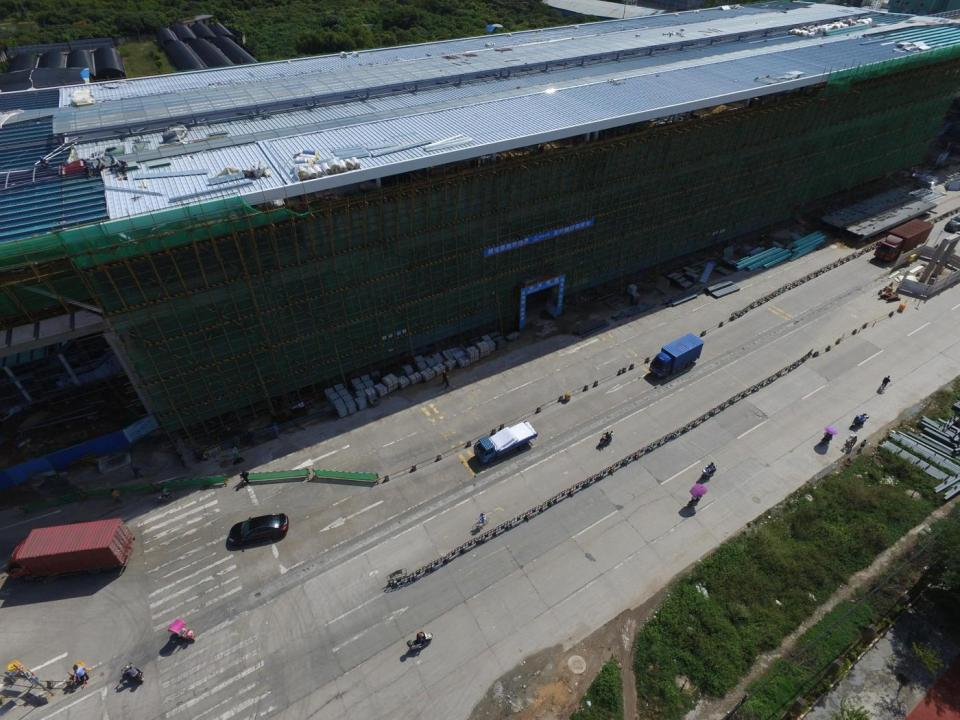car: (229, 512, 289, 546), (942, 214, 960, 231)
truck: (6, 516, 128, 592), (471, 420, 535, 464), (647, 332, 702, 380), (877, 217, 932, 264)
